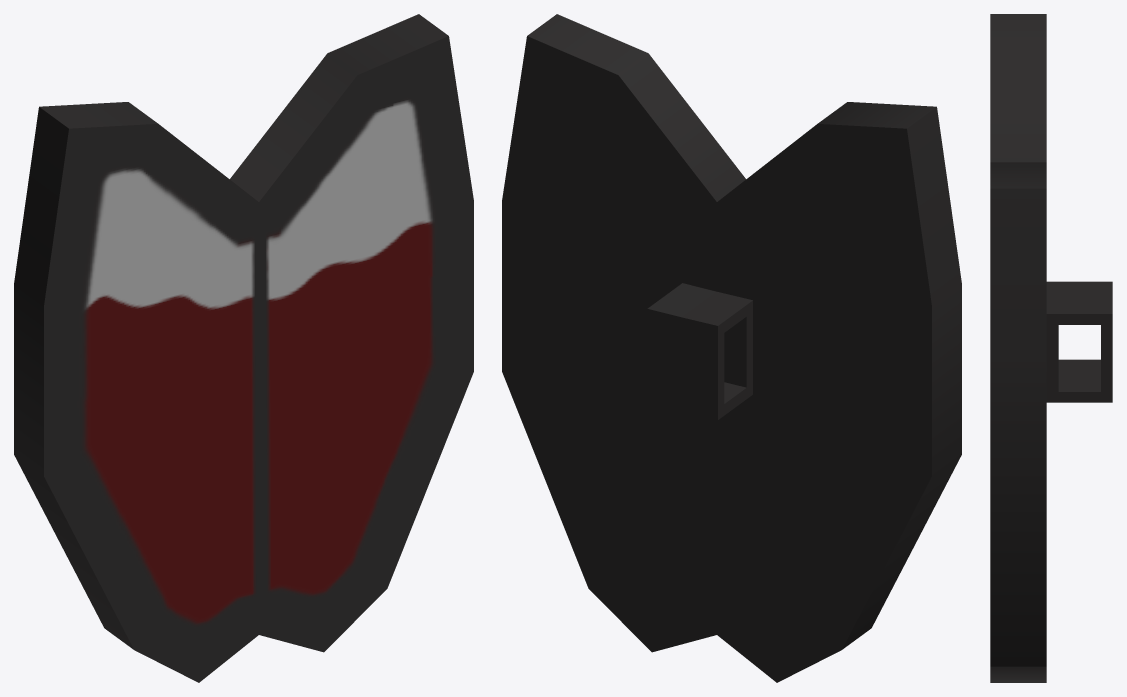
The model's file is Escudo.fbx.
3 renders of one model, left to right at view 1: azimuth 30°, elevation 25°; view 2: azimuth 150°, elevation 25°; view 3: azimuth 270°, elevation 25°, orthographic. The views are drawn at different scales.
Visible parts, largest first — view 1: Escudo010; view 2: Escudo010; view 3: Escudo010.
Part boxes in pixels (x1=…): Escudo010: x1=14, y1=14, x2=473, y2=682; Escudo010: x1=502, y1=14, x2=961, y2=682; Escudo010: x1=990, y1=14, x2=1112, y2=682.
Size of the model in its own units: 84 by 109 by 22.05.
1 material, 1 textured.
